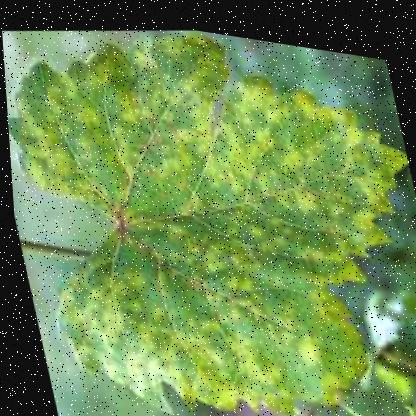DownyMildew: (0, 0, 415, 415), (145, 43, 402, 262), (159, 194, 385, 415), (0, 7, 210, 223), (41, 192, 228, 389)
